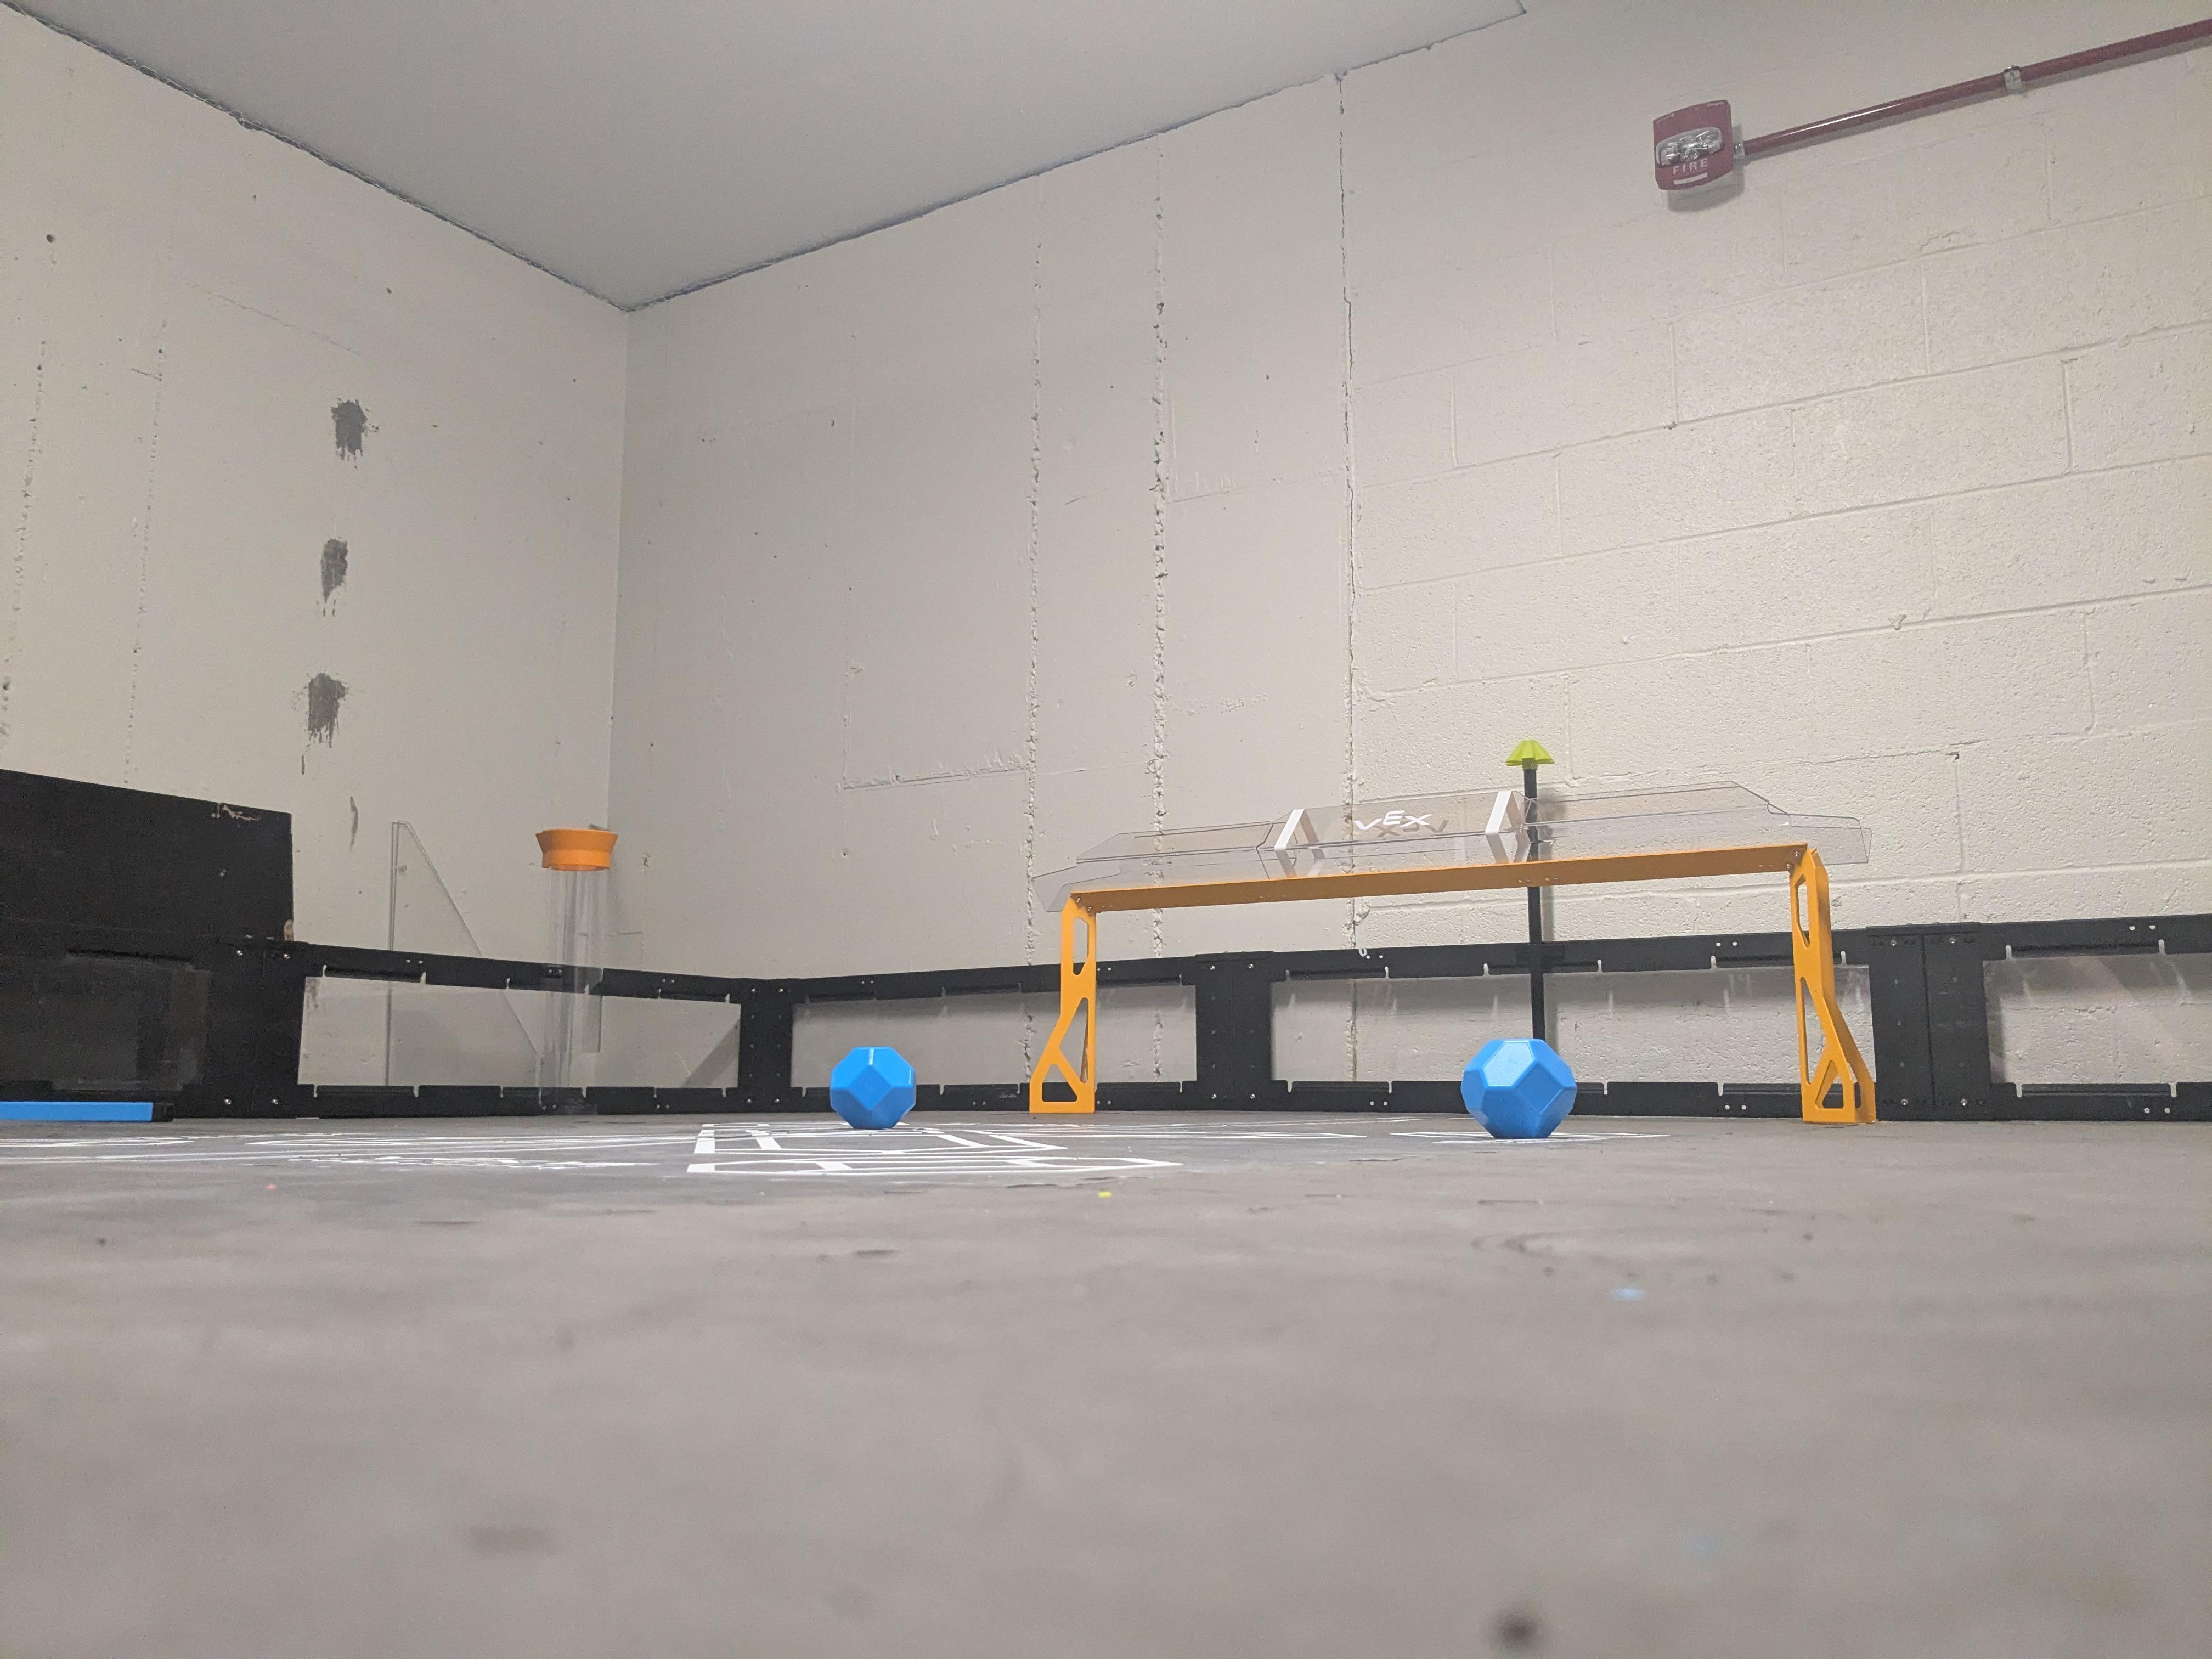Vex-Pieces-BLUE: (1461, 1039, 1571, 1138), (833, 1046, 911, 1127)
